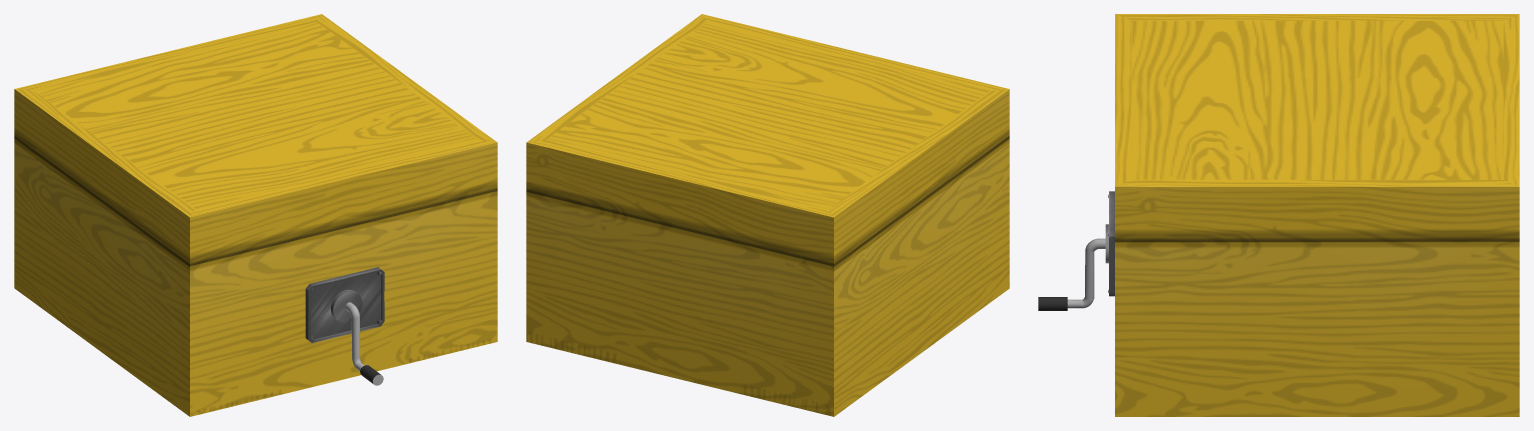
The model's file is caja.fbx.
3 views of the same model, side by side, from view 1: azimuth 30°, elevation 25°; view 2: azimuth 150°, elevation 25°; view 3: azimuth 270°, elevation 25° (orthographic). The views are drawn at different scales.
Parts seen in each view (by area): view 1: Cube (2+, group24; view 2: Cube (2+; view 3: Cube (2+, group24.
Part boxes in pixels (x1=…): Cube (2+: x1=14, y1=14, x2=497, y2=416; group24: x1=345, y1=302, x2=383, y2=385; Cube (2+: x1=526, y1=14, x2=1009, y2=416; Cube (2+: x1=1105, y1=14, x2=1519, y2=416; group24: x1=1038, y1=238, x2=1105, y2=310.
Bounding box in the file's own units: 25.91 × 16.08 × 30.48.
